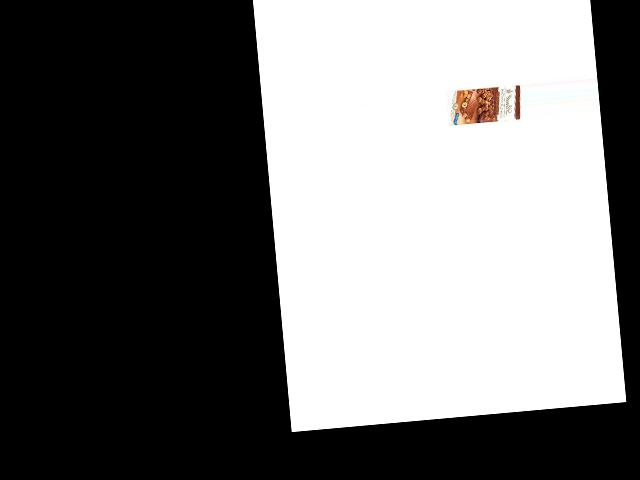chocolate: (449, 79, 520, 127)
